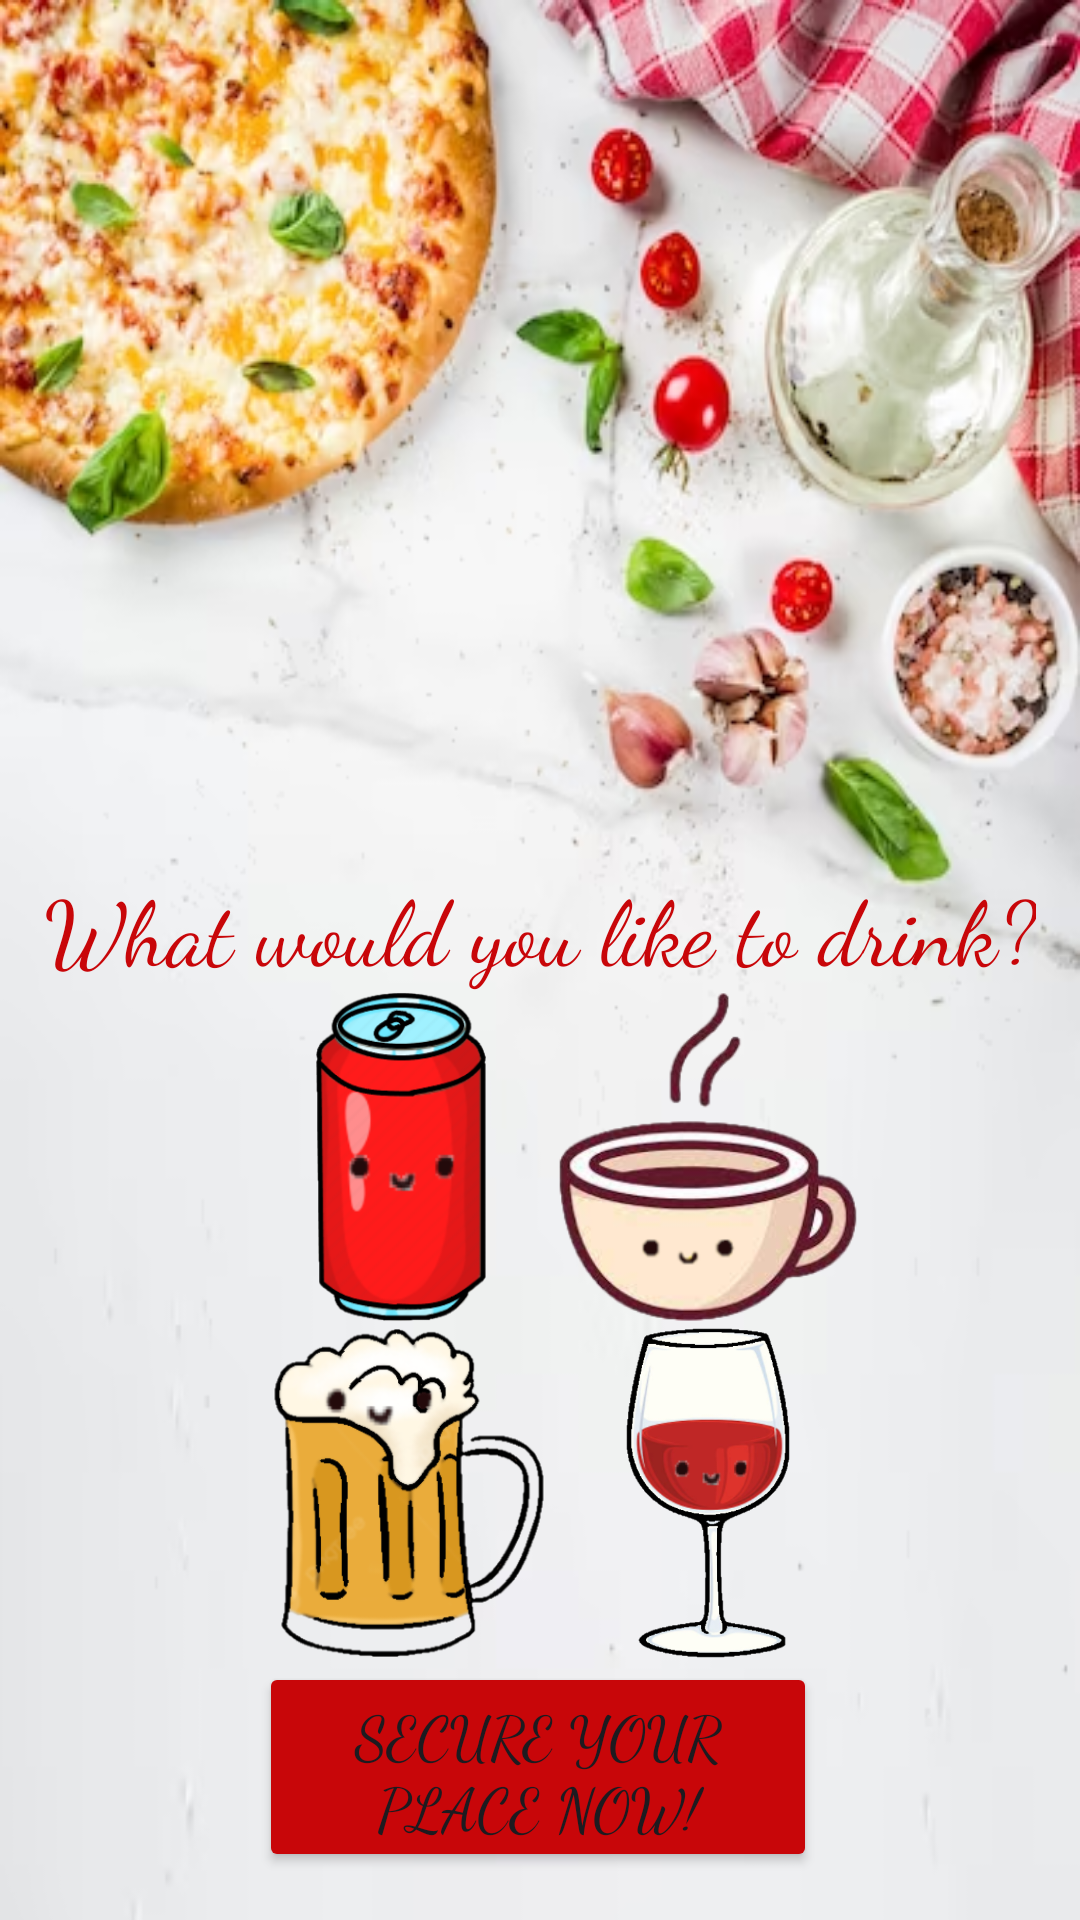

Screen size 1080 x 1920. Icon name, then its center in pixels as (x,y):
beer: (409,1493)
how drink: (708,1157)
soft drink: (420,1157)
wine: (705,1493)
